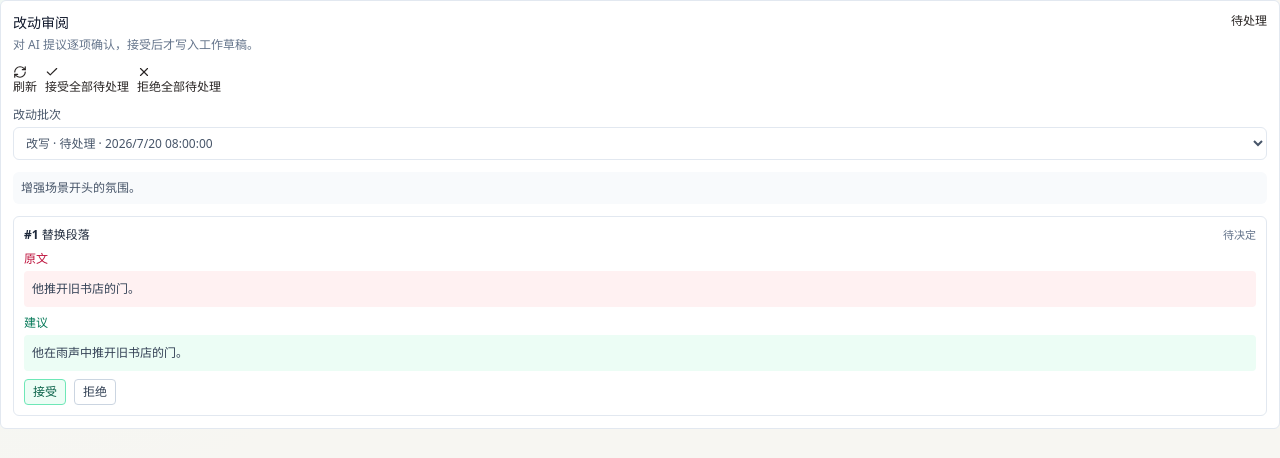
Test case: ChangeSetReviewPanel › previews original and proposed blocks and applies one decision
The width and height of the screenshot is (1280, 458).
Expected: the text "他推开旧书店的门。" is shown, [24,271,1256,307]
Expected: the text "他在雨声中推开旧书店的门。" is shown, [24,335,1256,371]
Click the button "接受" at (45, 392), box [24,379,66,405]
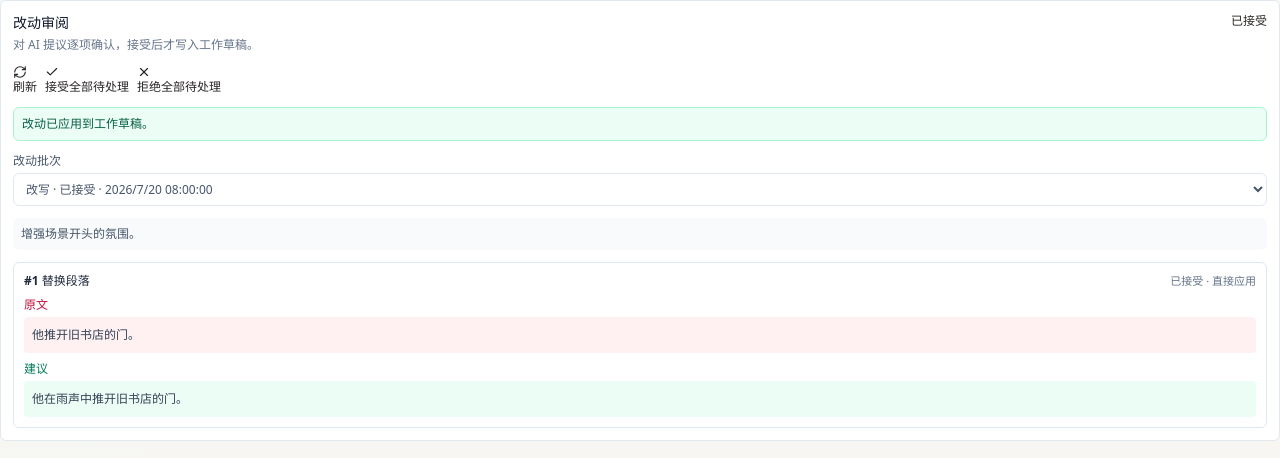
Expected: the text "改动已应用到工作草稿。" is shown, [13,107,1267,141]
Expected: the text "已接受 · 直接应用" is shown, [1170,273,1256,289]
